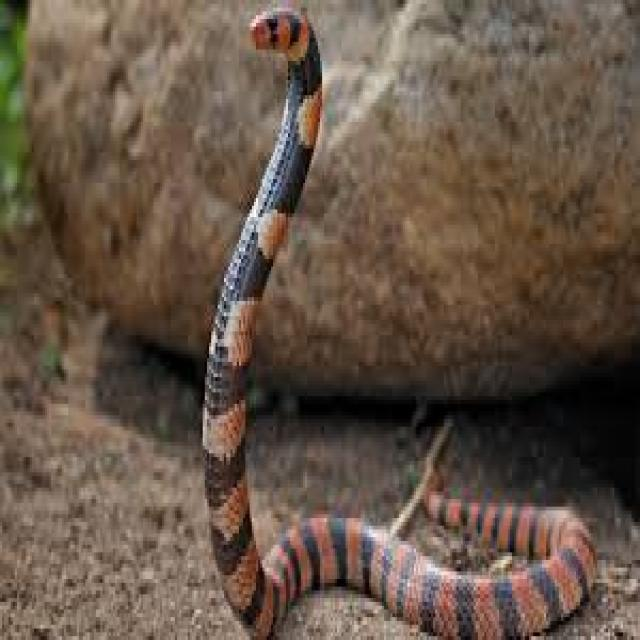Snake: (198, 3, 601, 640)
